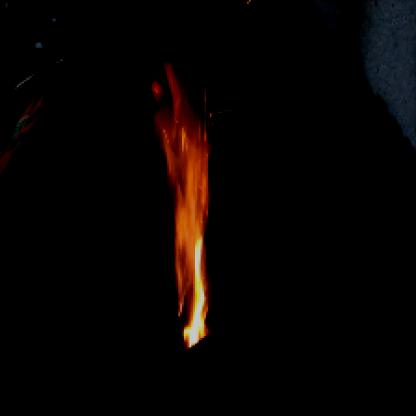Fire: (139, 54, 223, 351)
